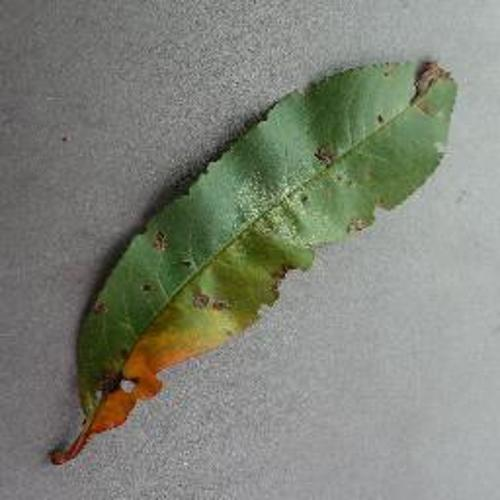Peach: (50, 63, 456, 465)
